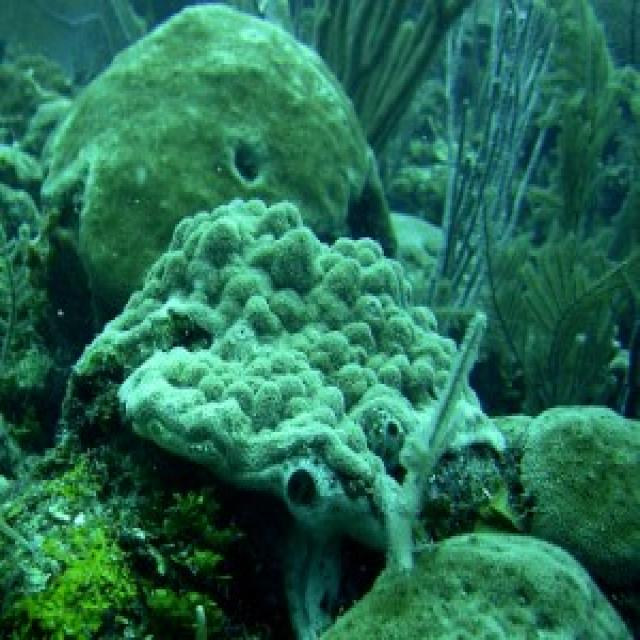Healthy: (76, 201, 455, 638), (44, 6, 396, 313), (483, 1, 637, 412), (1, 425, 276, 638), (430, 1, 556, 308), (321, 532, 632, 638), (315, 1, 468, 153), (522, 406, 639, 588)
